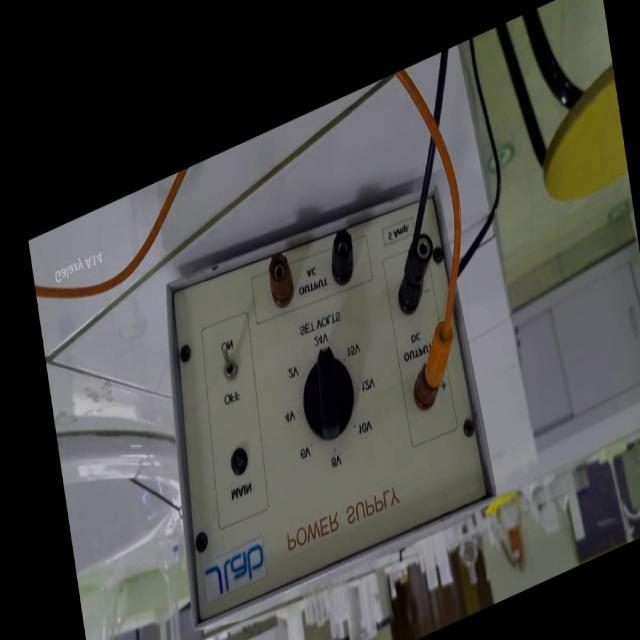Power Supply: (142, 158, 499, 640)
